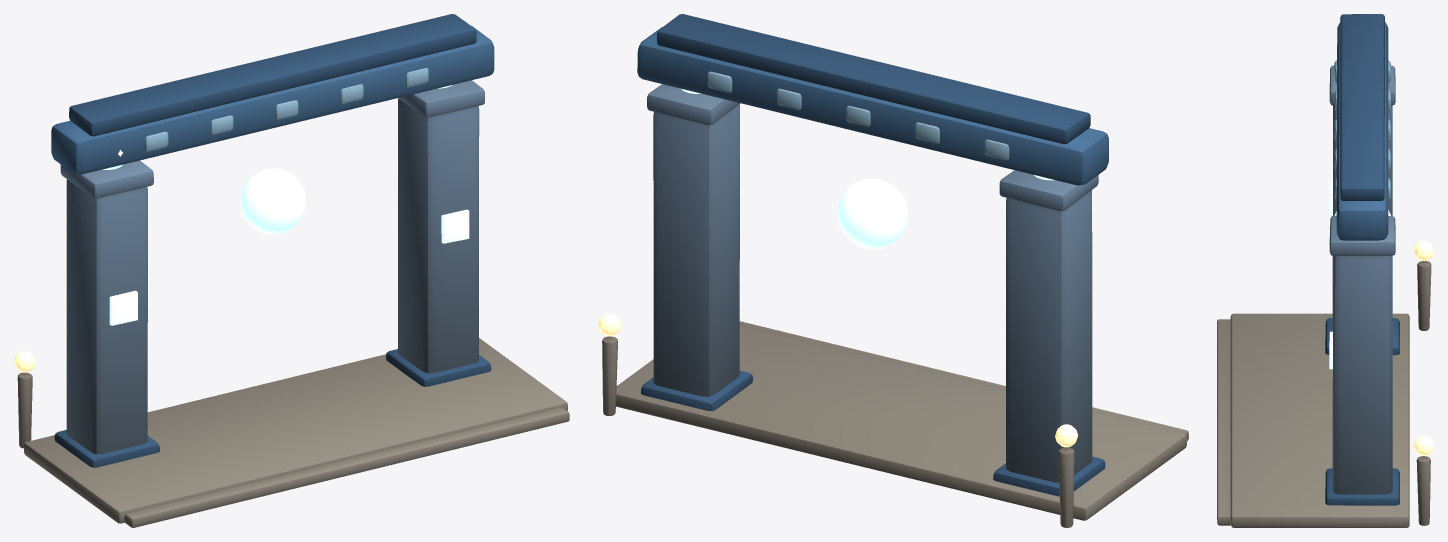
The picture shows the model from 3 angles, left to right: view 1: azimuth 30°, elevation 25°; view 2: azimuth 150°, elevation 25°; view 3: azimuth 270°, elevation 25°; orthographic projection. The views are drawn at different scales.
Parts seen in each view (by area): view 1: gate_d3f24e18; view 2: gate_d3f24e18; view 3: gate_d3f24e18.
Part boxes in pixels (x1=…): gate_d3f24e18: x1=14, y1=14, x2=569, y2=527; gate_d3f24e18: x1=598, y1=14, x2=1188, y2=527; gate_d3f24e18: x1=1217, y1=14, x2=1433, y2=527.
Bounding box in the file's own units: 5.68 × 4.24 × 2.55.
